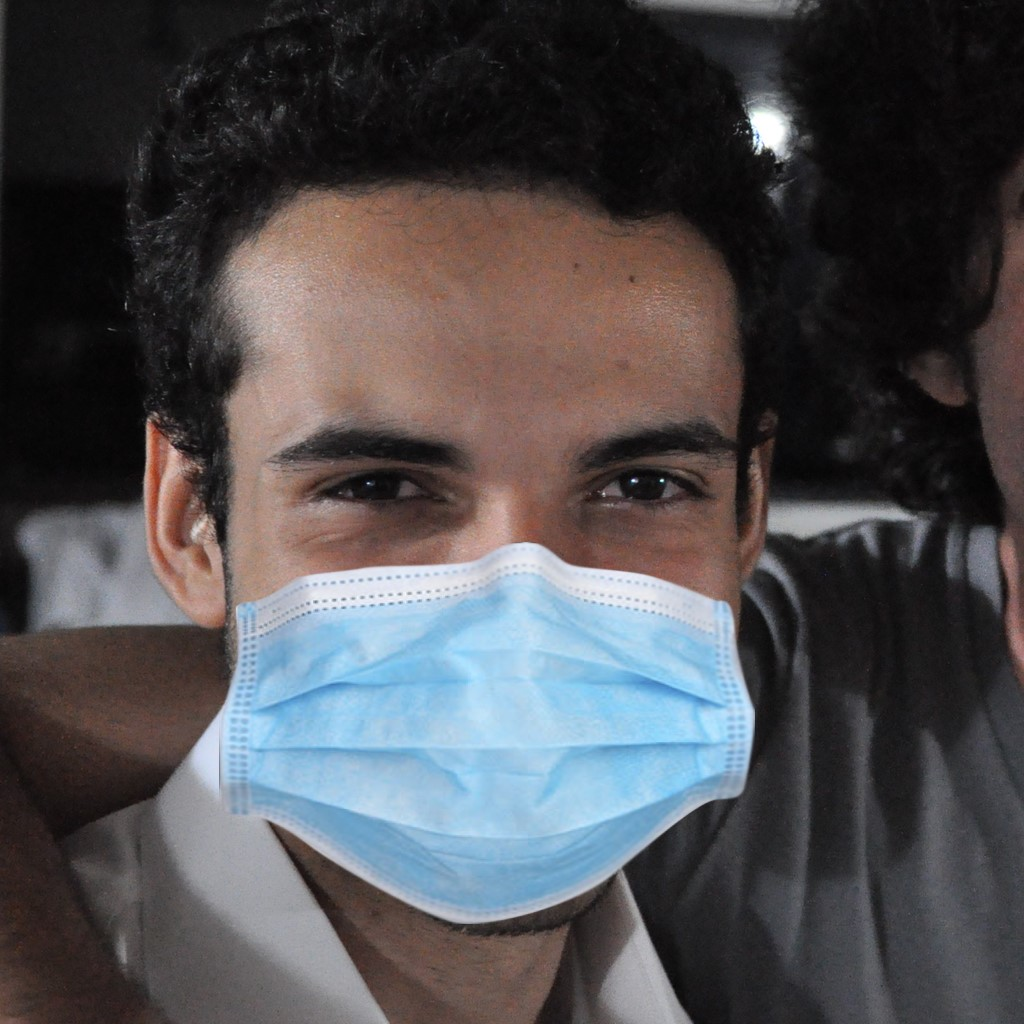con_mascara: (139, 138, 764, 941)
